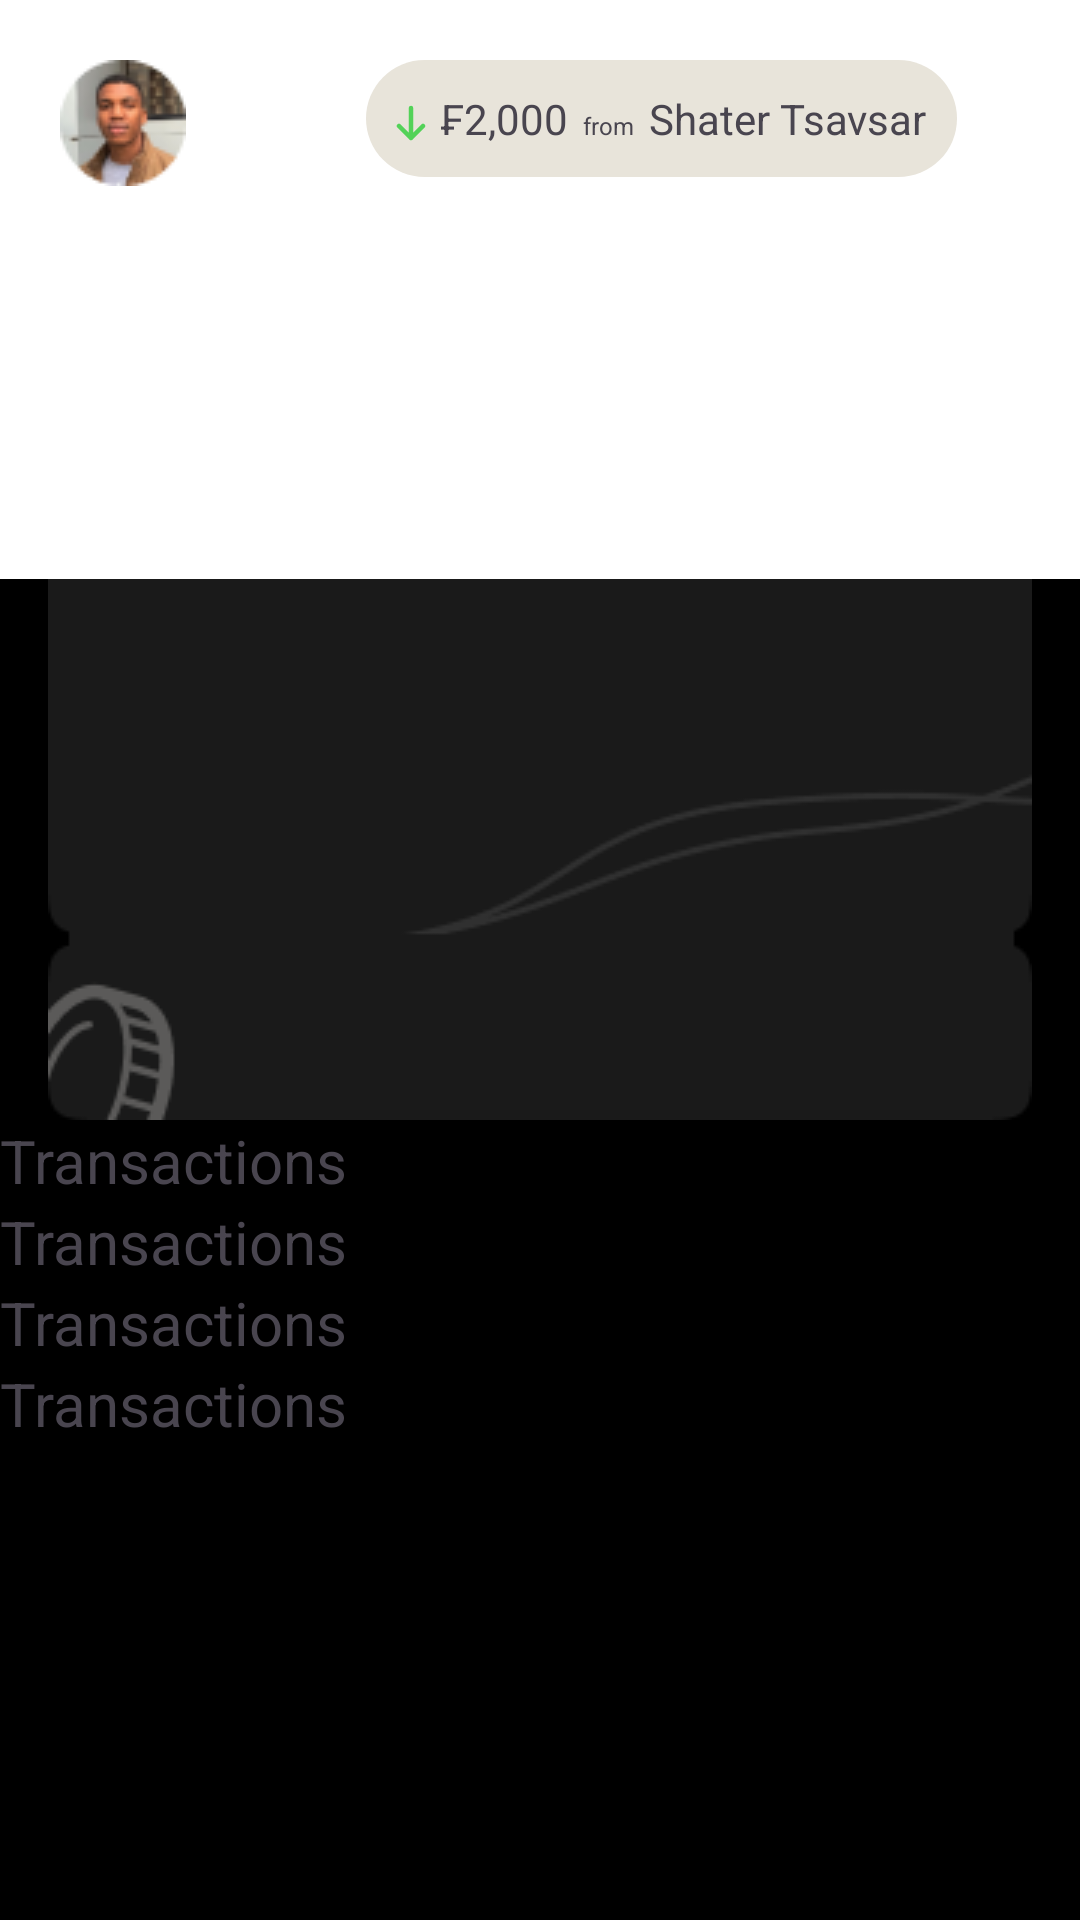

Named icons in this screenshot (1080px×1920px) and their centers, point (x, y):
downarrow: point (411, 123)
user: point (123, 123)
